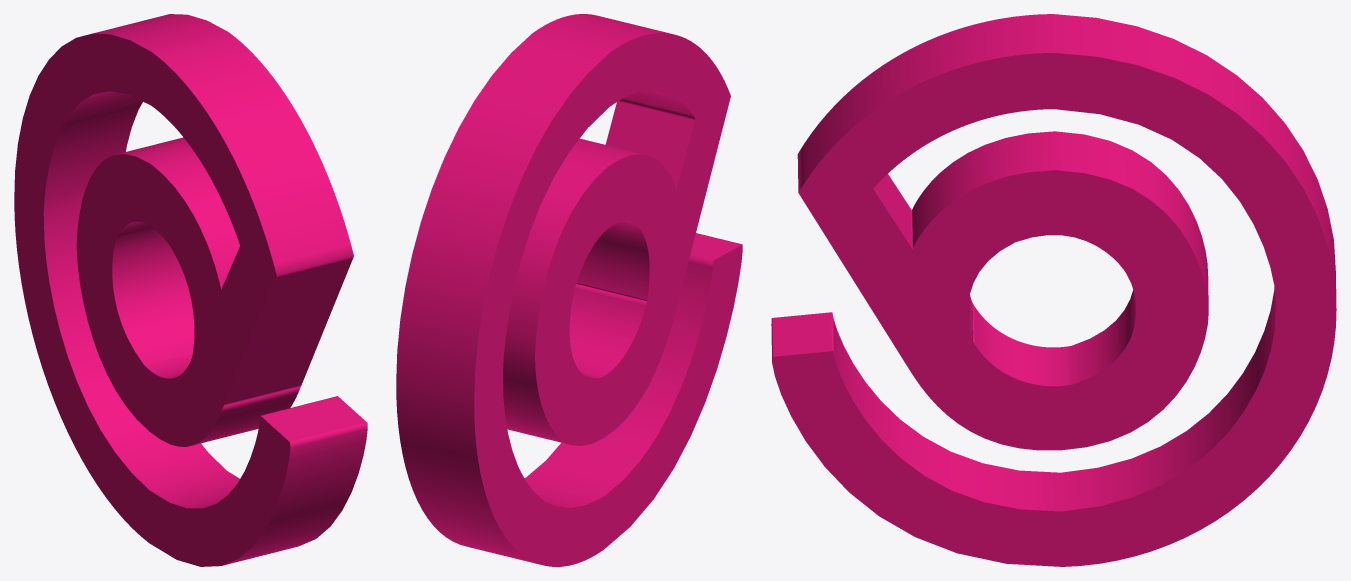
Rendered from dimigo.gltf.
The picture shows the model from 3 angles, left to right: view 1: azimuth 30°, elevation 25°; view 2: azimuth 150°, elevation 25°; view 3: azimuth 270°, elevation 25°; orthographic projection. The views are drawn at different scales.
Visible parts, largest first — view 1: Logo_path; view 2: Logo_path; view 3: Logo_path.
Part boxes in pixels (x1,y1,x2,y2): Logo_path: [14, 14, 367, 566]; Logo_path: [396, 14, 742, 566]; Logo_path: [771, 14, 1336, 566].
Size of the model in its own units: 0.7849 by 4.54 by 4.53.
